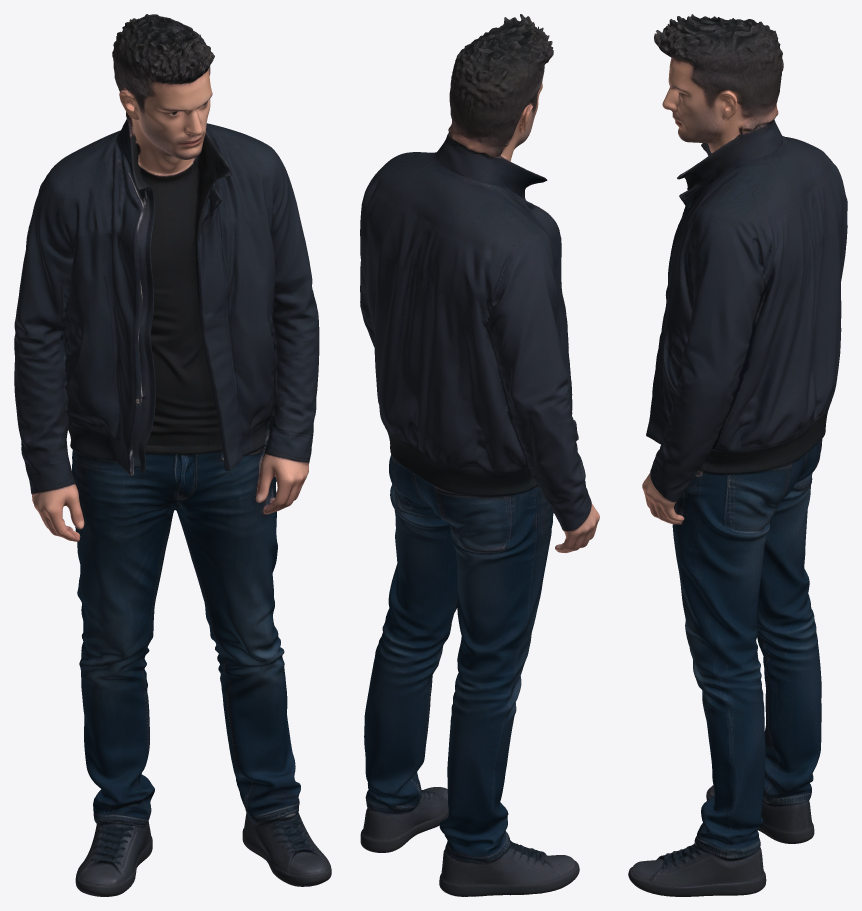
The model's file is persona_realista.glb.
3 views of the same model, side by side, from view 1: azimuth 30°, elevation 25°; view 2: azimuth 150°, elevation 25°; view 3: azimuth 270°, elevation 25° (orthographic). The views are drawn at different scales.
Parts seen in each view (by area): view 1: mesh_0; view 2: mesh_0; view 3: mesh_0.
Part boxes in pixels (x1,y1,x2,y2): mesh_0: (14,14,331,896); mesh_0: (360,14,599,896); mesh_0: (628,14,847,896).
Bounding box in the file's own units: 0.5905 × 1.9 × 0.4613.
Materials: 1 (1 with a texture image).
